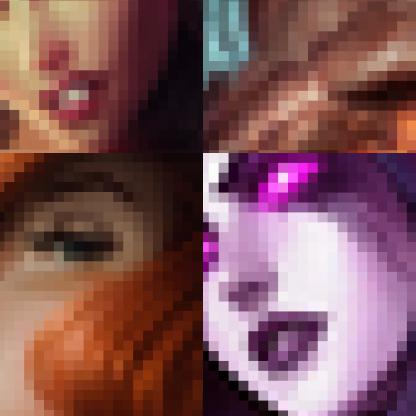Miss Fortune: (0, 153, 202, 415)
Morgana: (203, 153, 415, 415)
Udyr: (203, 0, 415, 152)
Zyra: (0, 0, 202, 152)
